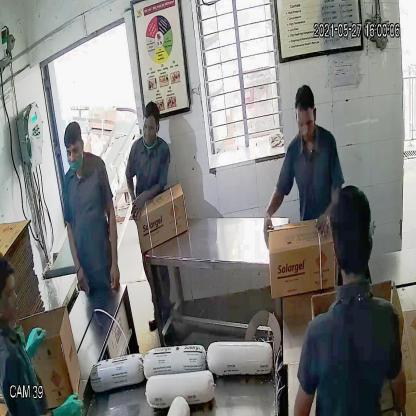no_goggles: (292, 110, 317, 133), (64, 142, 84, 162)
